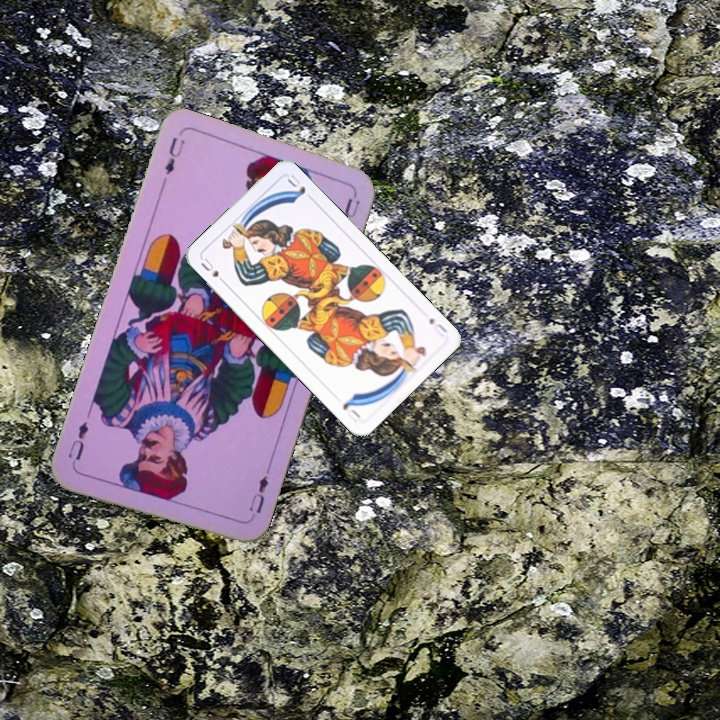EU: (245, 466, 272, 523), (160, 133, 188, 177)
SU: (197, 254, 230, 288), (425, 314, 450, 338)
